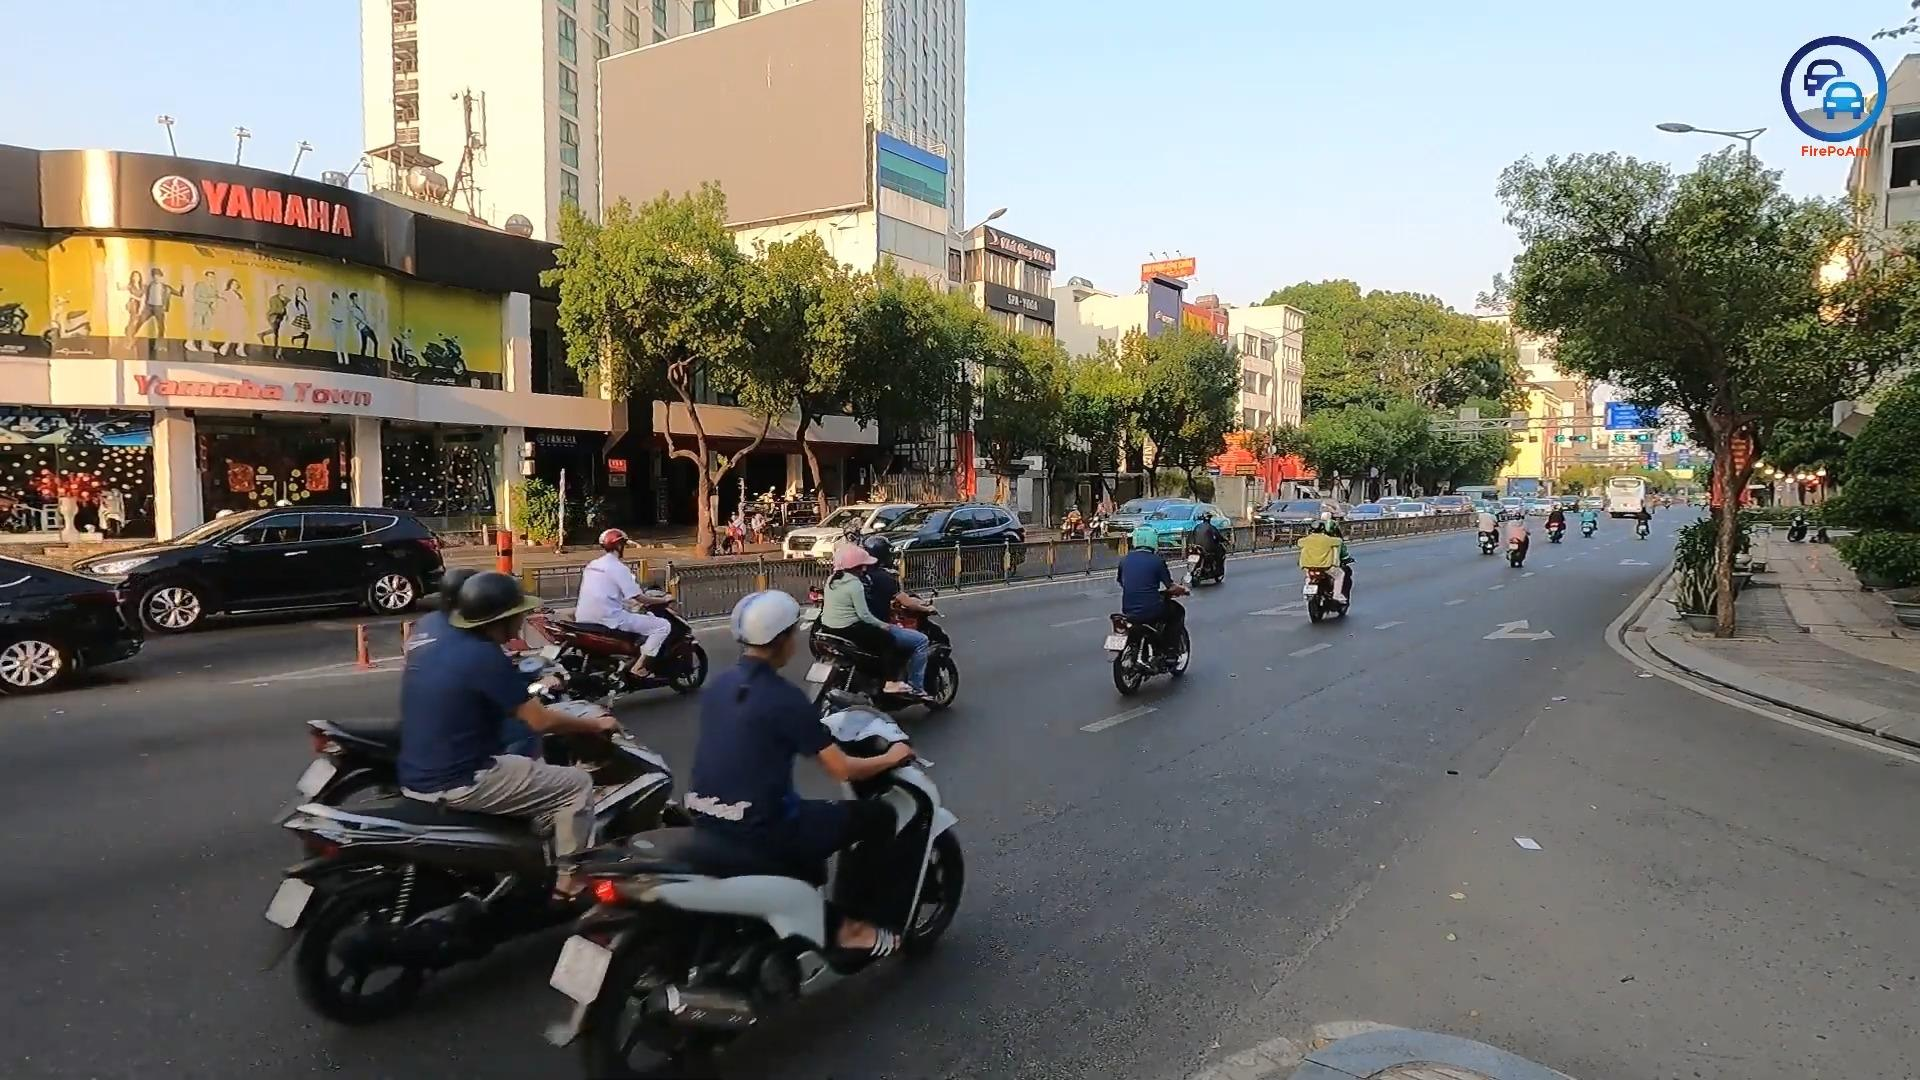bien_so: (547, 932, 613, 1007), (262, 873, 316, 933), (293, 756, 336, 801), (804, 662, 833, 684), (1101, 634, 1128, 651)
